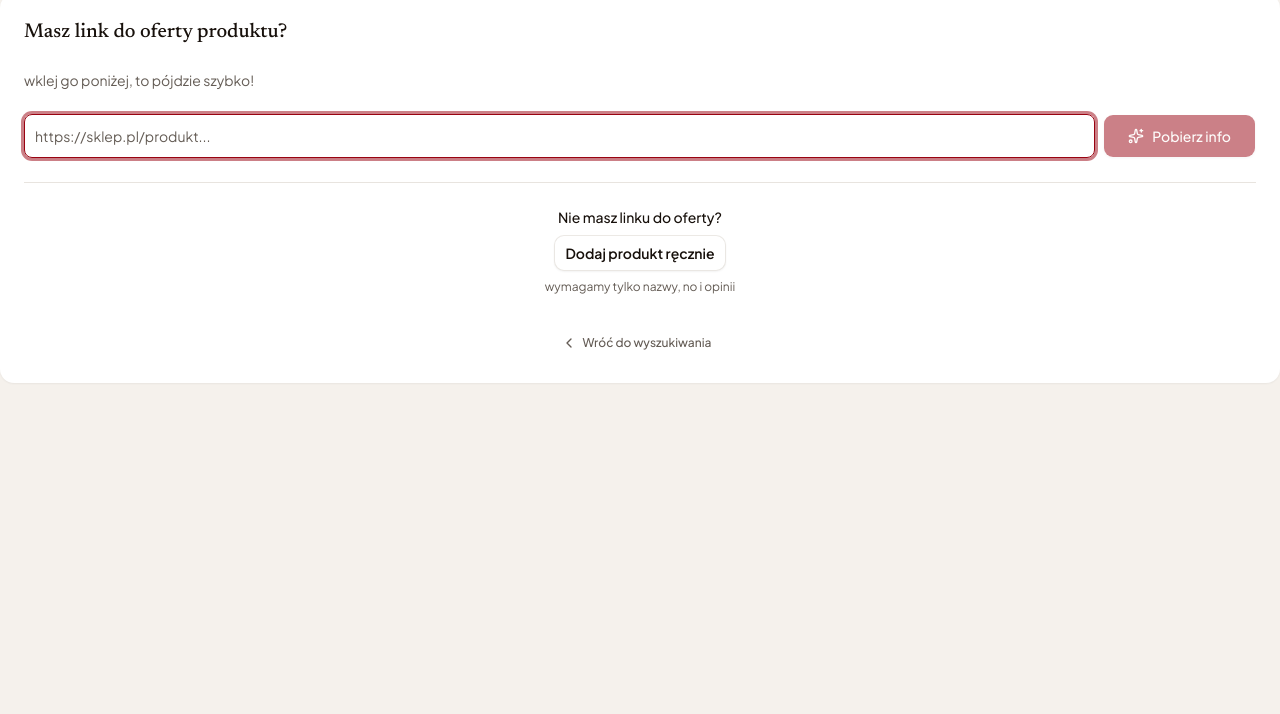
Scenario: CombinedProductReviewForm › Phase Navigation › navigates immediately to manual form without URL field when clicking manual addition
This screenshot has width=1280, height=714.
Click the button "Dodaj produkt ręcznie" at (640, 253), box [554,235,726,271]
(page scrolled)
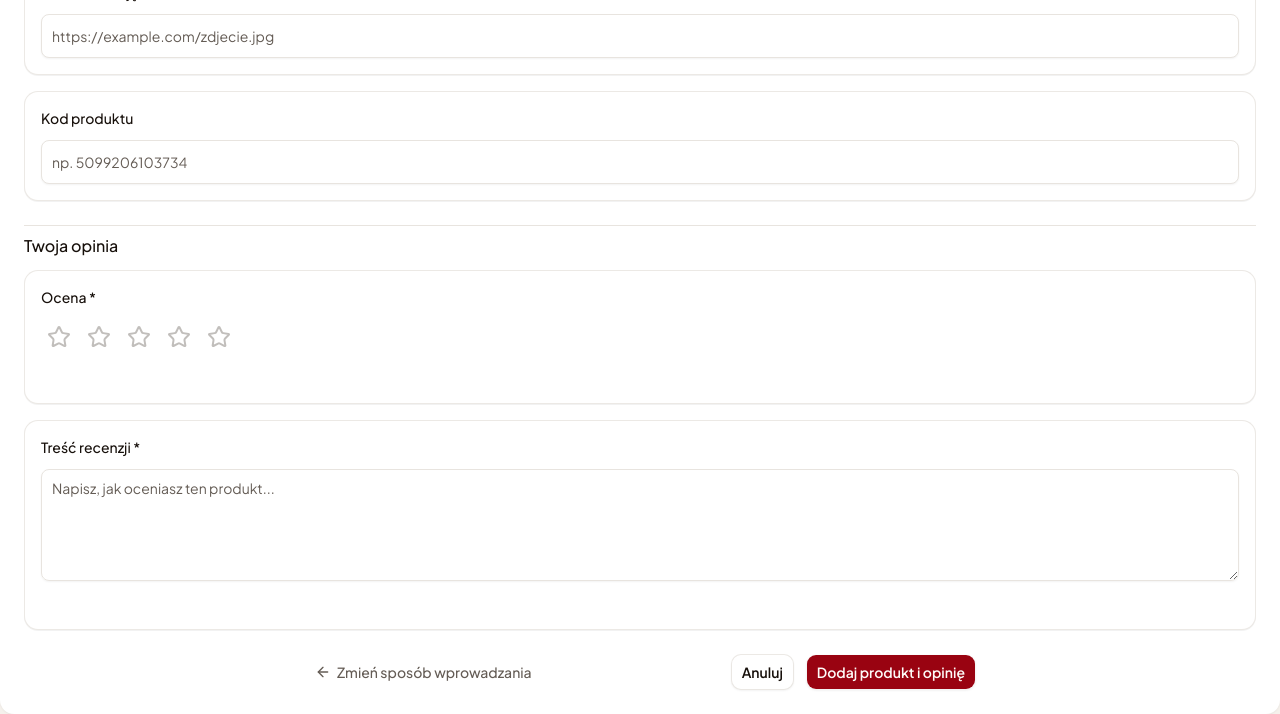
Expected: the text "Twoja opinia" is shown, [24,234,118,258]
Expected: the text box labelled "Treść recenzji *" is shown, [41,469,1239,581]
